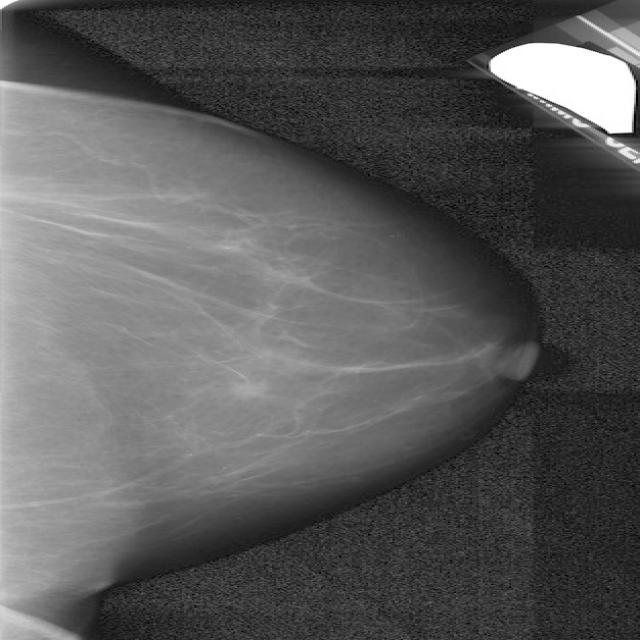tumour: (223, 378, 268, 402)
